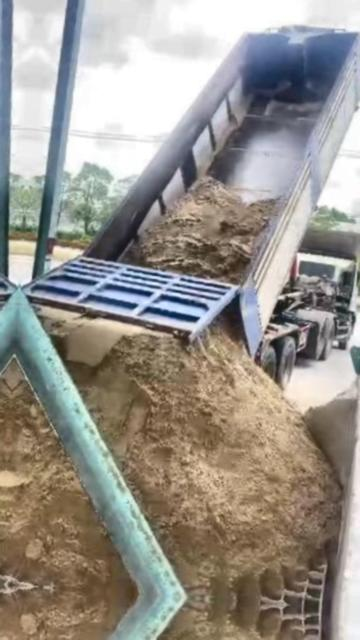sand: (41, 309, 353, 599), (0, 367, 136, 593), (128, 180, 272, 282)
